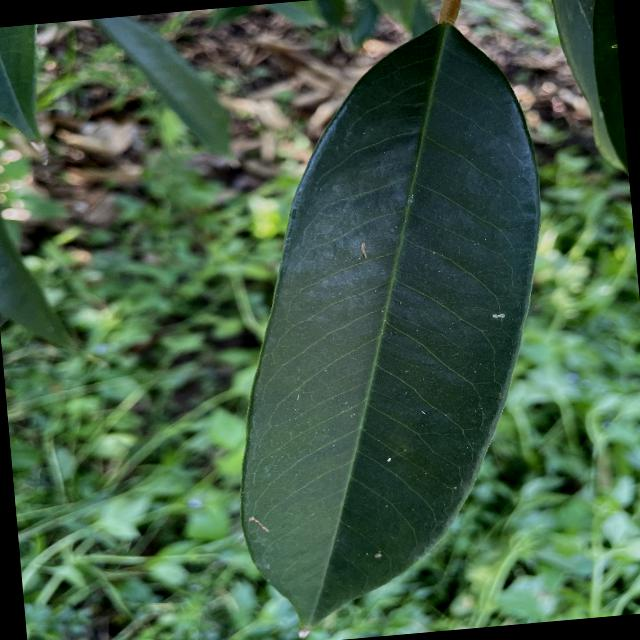No Disease: (189, 5, 585, 639)
